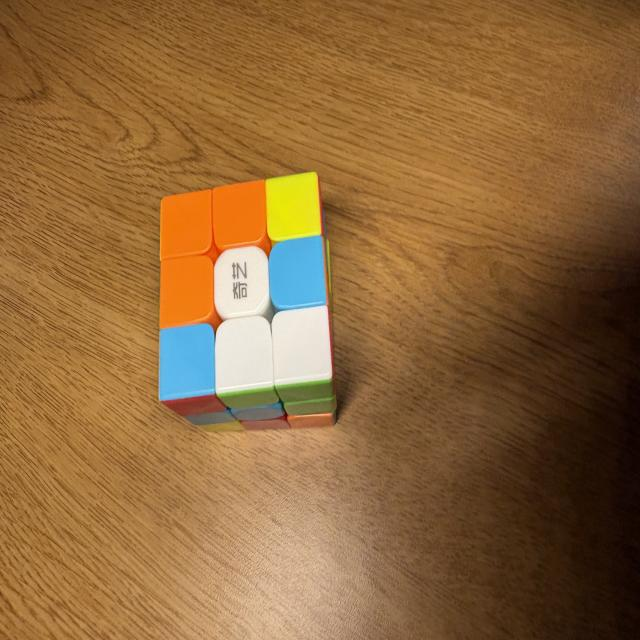Rubiks Cube: (159, 172, 335, 431)
